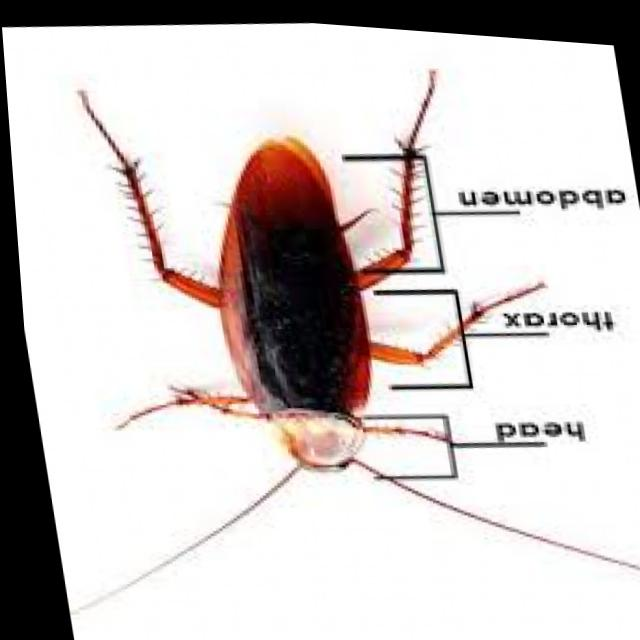Cockroach: (1, 12, 640, 640)
